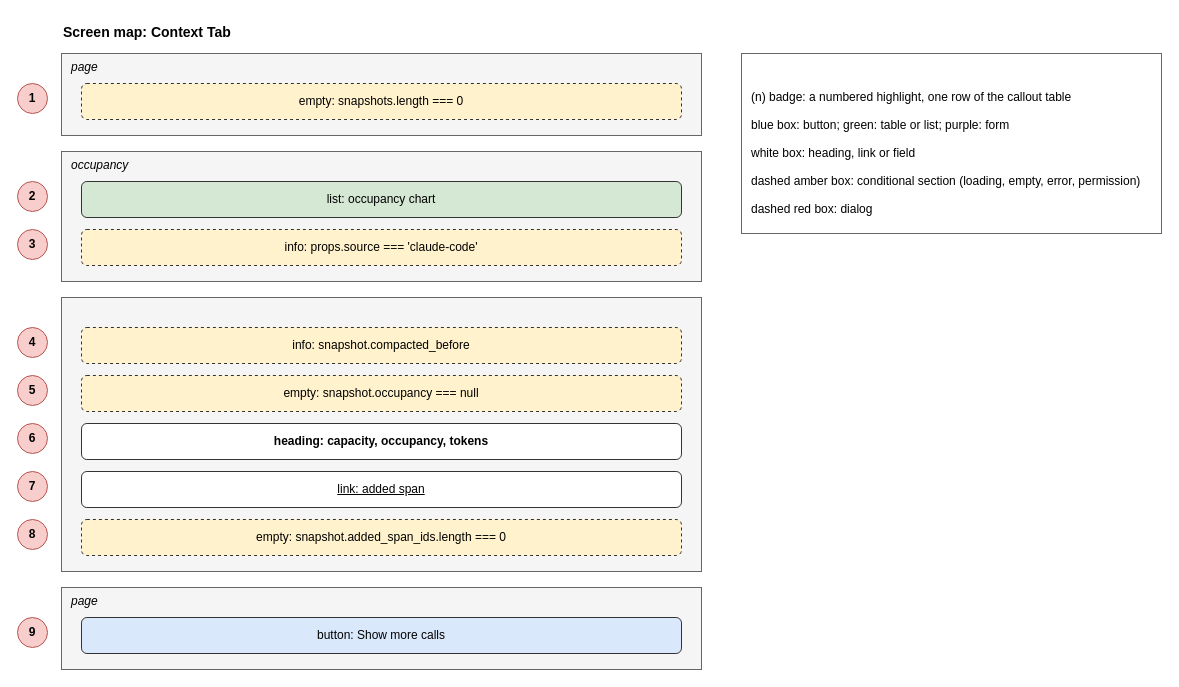
This 1179x687 diagram has some shape labels left out. Each missing label, with the box of its shape:
call card: (60, 296, 702, 572)
Legend: (740, 52, 1162, 234)
